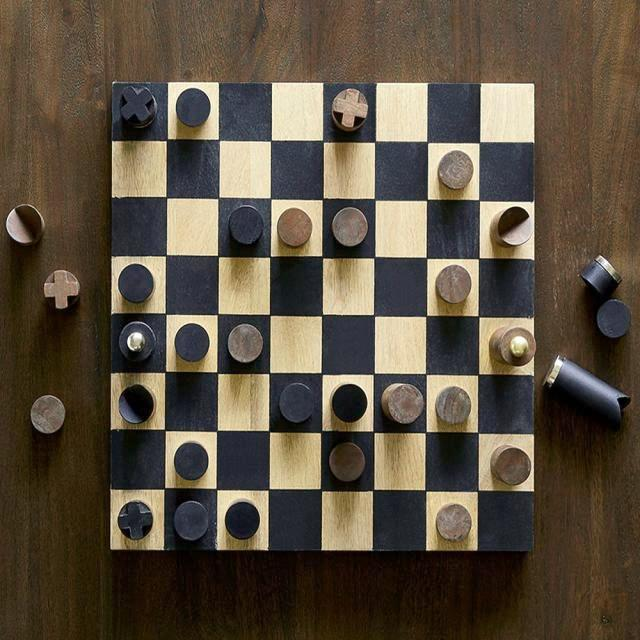chess-table-corners: (516, 59, 550, 105), (511, 529, 546, 567), (96, 532, 127, 566), (98, 66, 126, 95)
